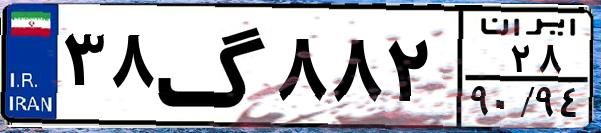0: (495, 70, 520, 125)
2: (385, 28, 445, 110), (508, 27, 537, 80)
3: (57, 26, 110, 100)
4: (560, 70, 590, 125)
8: (270, 28, 330, 110), (330, 28, 385, 110), (110, 28, 156, 98), (537, 27, 568, 80)
9: (470, 70, 495, 125), (535, 70, 560, 125)
گ: (156, 12, 270, 120)
